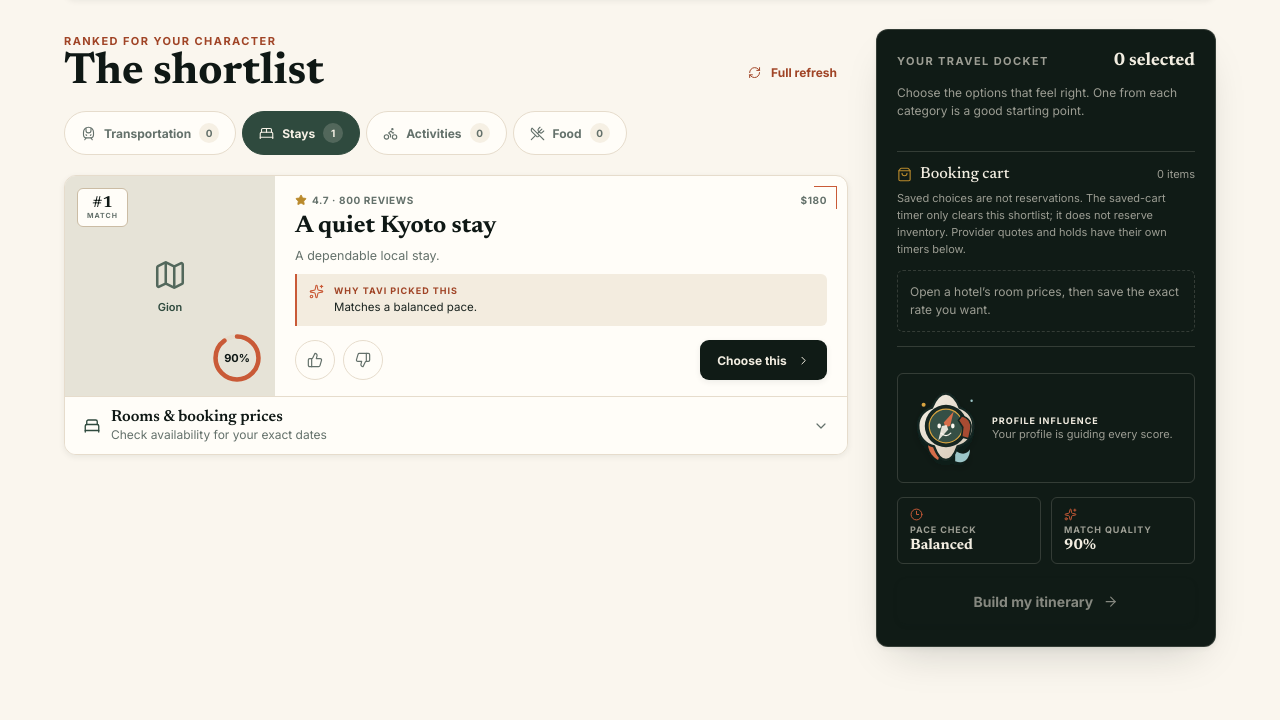
Scenario: records a like and shows the per-card noted state
This screenshot has width=1280, height=720.
(page scrolled)
Step 1. Click the button named "More like this: A quiet Kyoto stay" → (315, 360), box [295,340,335,380]
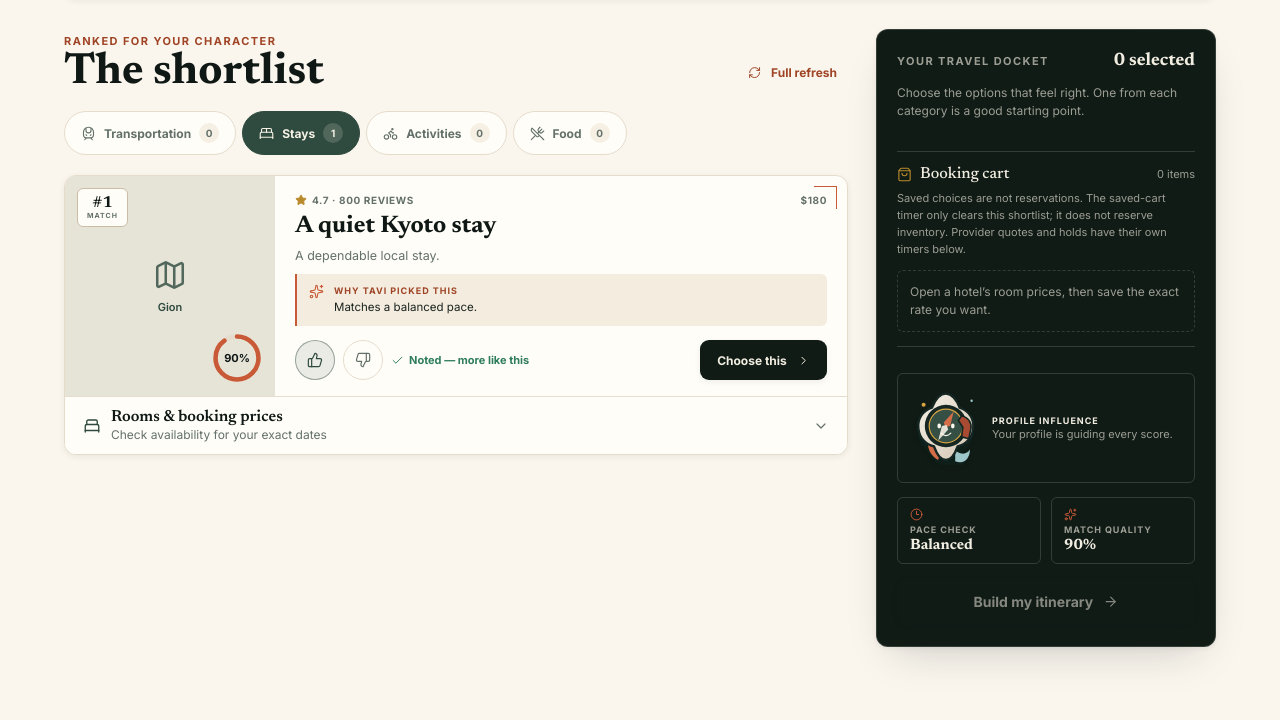
Expected: the text "Noted — more like this" is shown, [391,353,529,367]
